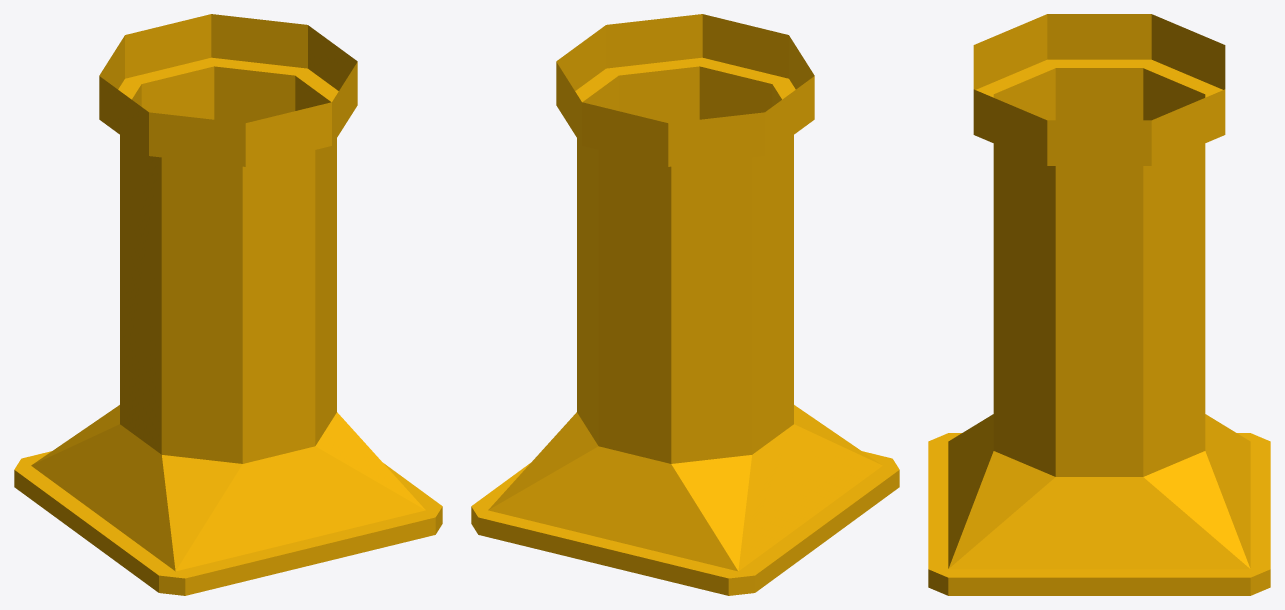
The model's file is modular_engine_exhaust_manifold_housing_straight.dae.
3 views of the same model, side by side, from view 1: azimuth 30°, elevation 25°; view 2: azimuth 150°, elevation 25°; view 3: azimuth 270°, elevation 25° (orthographic). The views are drawn at different scales.
Visible parts, largest first — view 1: Cube; view 2: Cube; view 3: Cube.
Boxes of the visible parts, x1,y1,x2,y2 form: Cube: (14, 14, 442, 595); Cube: (471, 14, 899, 595); Cube: (928, 14, 1270, 595).
Size of the model in its own units: 0.17 by 0.17 by 0.25.
